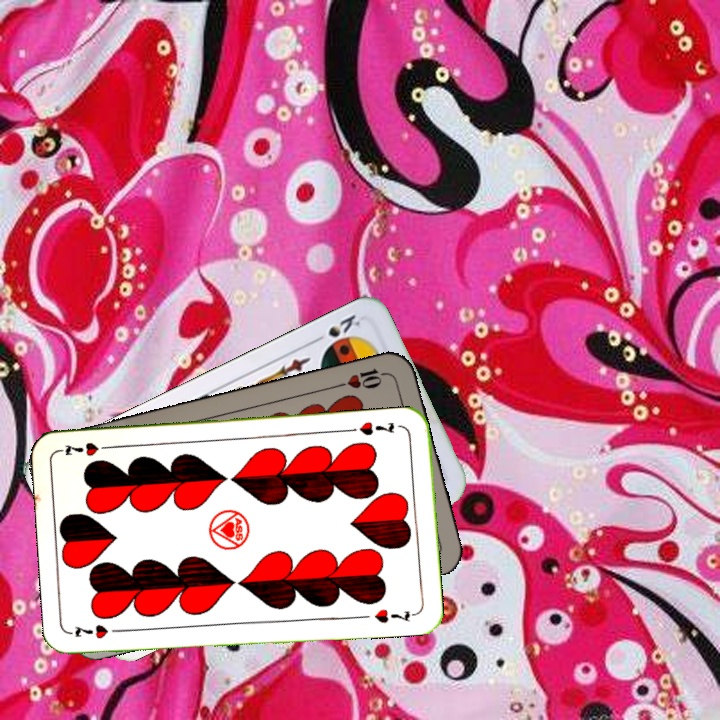H10: (333, 364, 391, 392)
H7: (68, 620, 127, 642), (355, 417, 397, 438)
SK: (308, 310, 364, 346)
